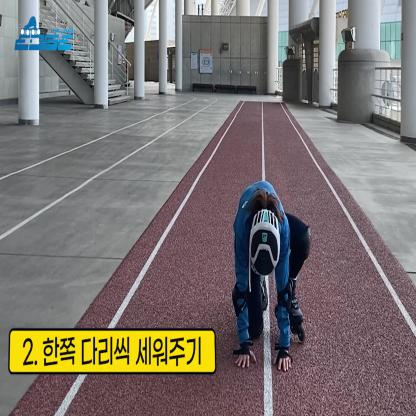Fall_Down: (231, 178, 313, 374)
